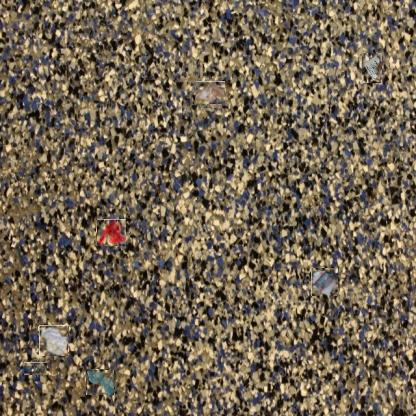dirty: (38, 326, 68, 356), (311, 268, 338, 296), (197, 80, 224, 106), (362, 53, 382, 83), (26, 360, 45, 378)
liquid: (96, 219, 126, 246), (86, 369, 114, 395)
